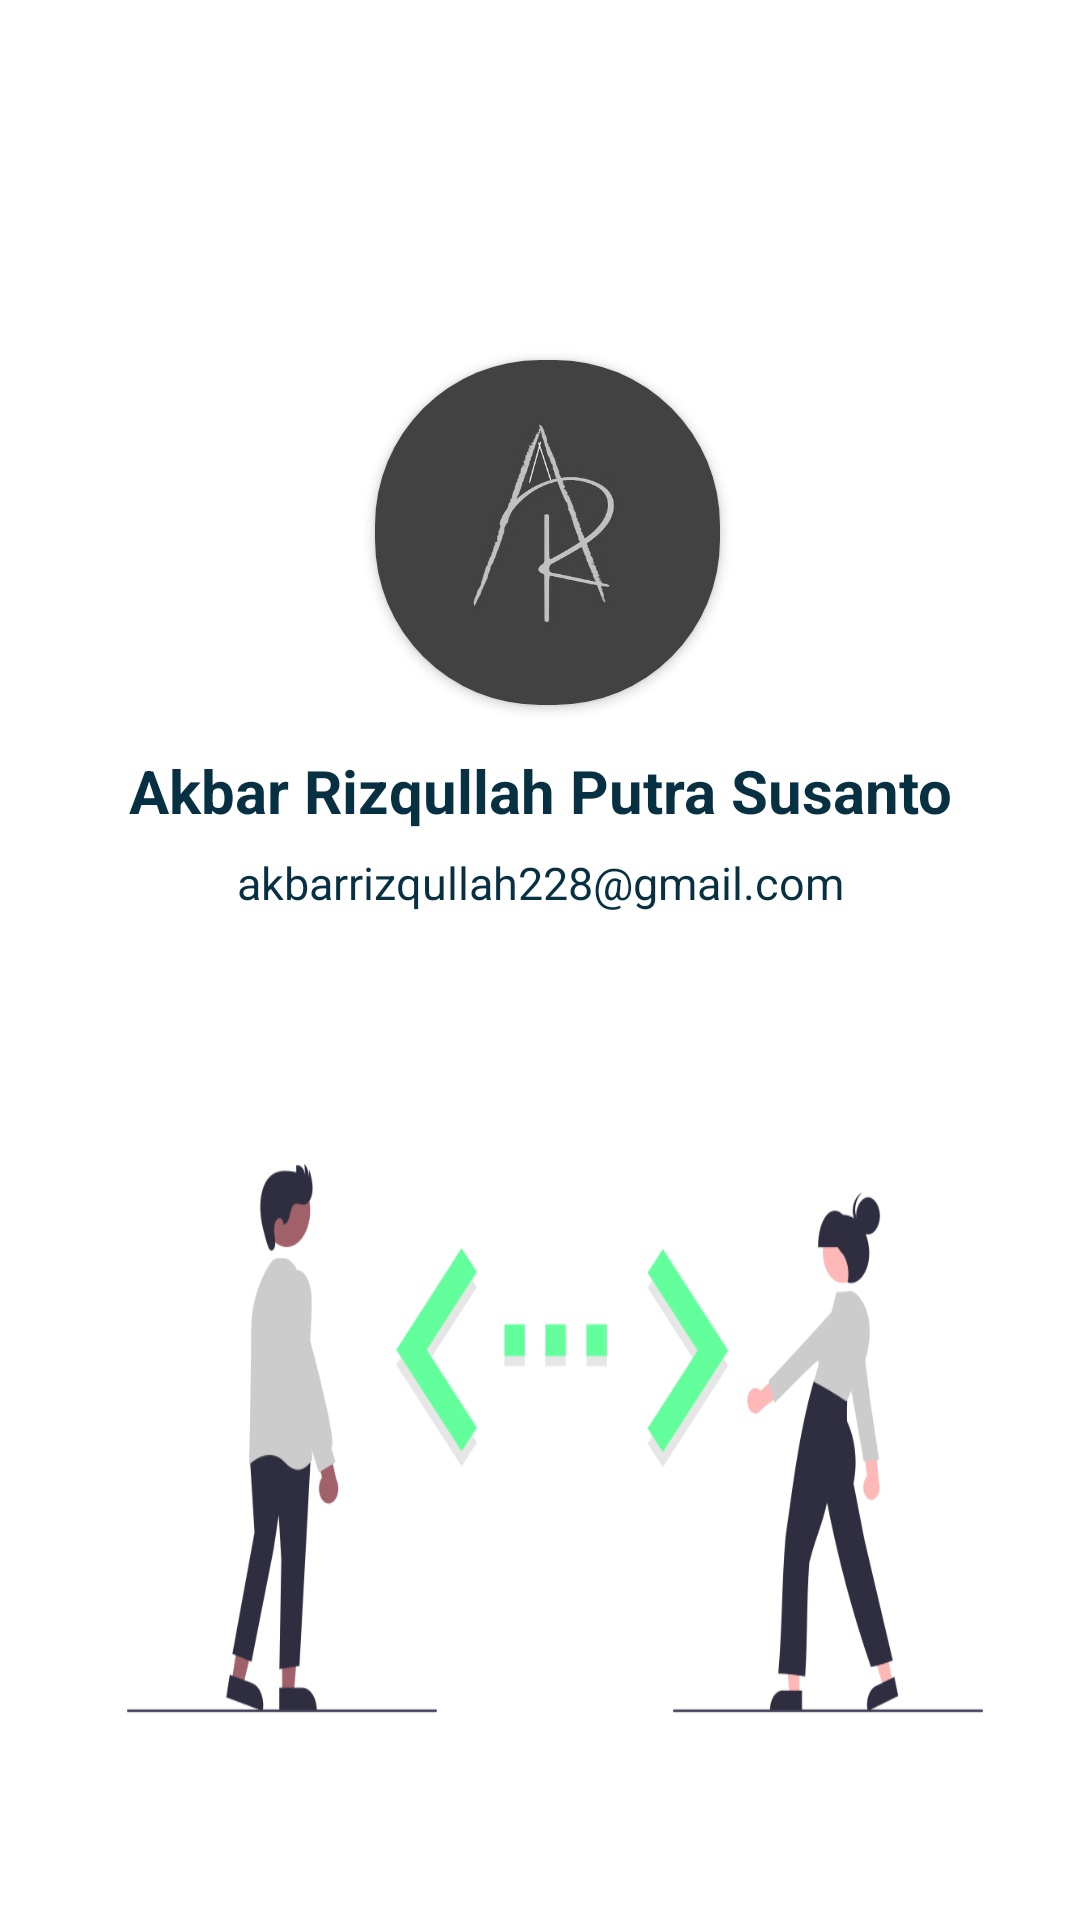

Icon bounding boxes for this 1080*1920 phone screenshot, format (x1, y1, x2, y2):
profil: (375, 360, 720, 705)
